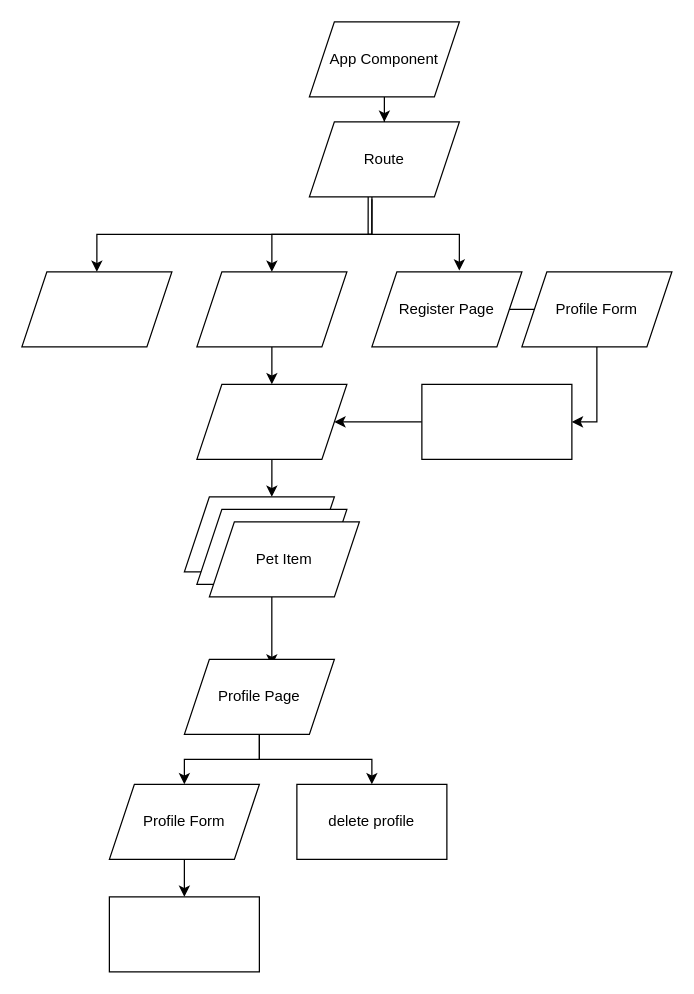
The diagram is 694 pixels wide and 994 high, and some of its shapes have lost their labels. The shapes that lost their labels are listed below. From the top down, each one's box as (x1, y1, x2, y2) in pixels, then its label:
(21, 271, 172, 347): Homepage
(196, 271, 347, 347): Pet Records
(196, 383, 347, 459): Pet List
(421, 383, 572, 459): add profile
(108, 896, 259, 972): edit profile
